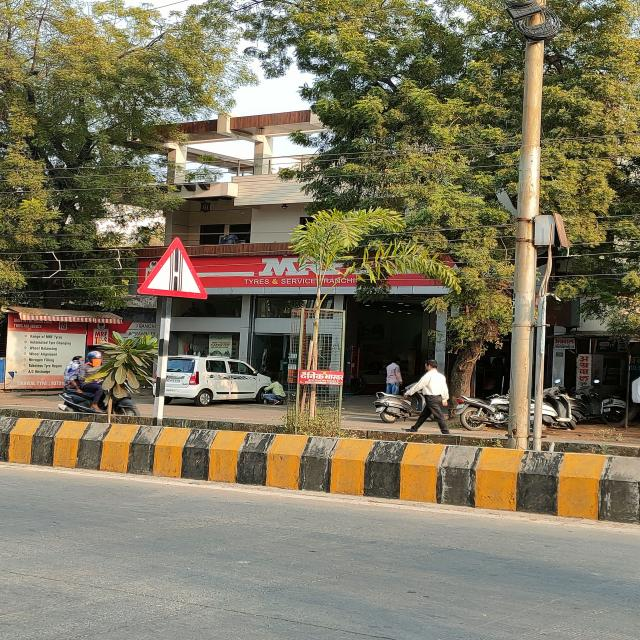GAP_IN_MEDIAN: (136, 237, 209, 300)
